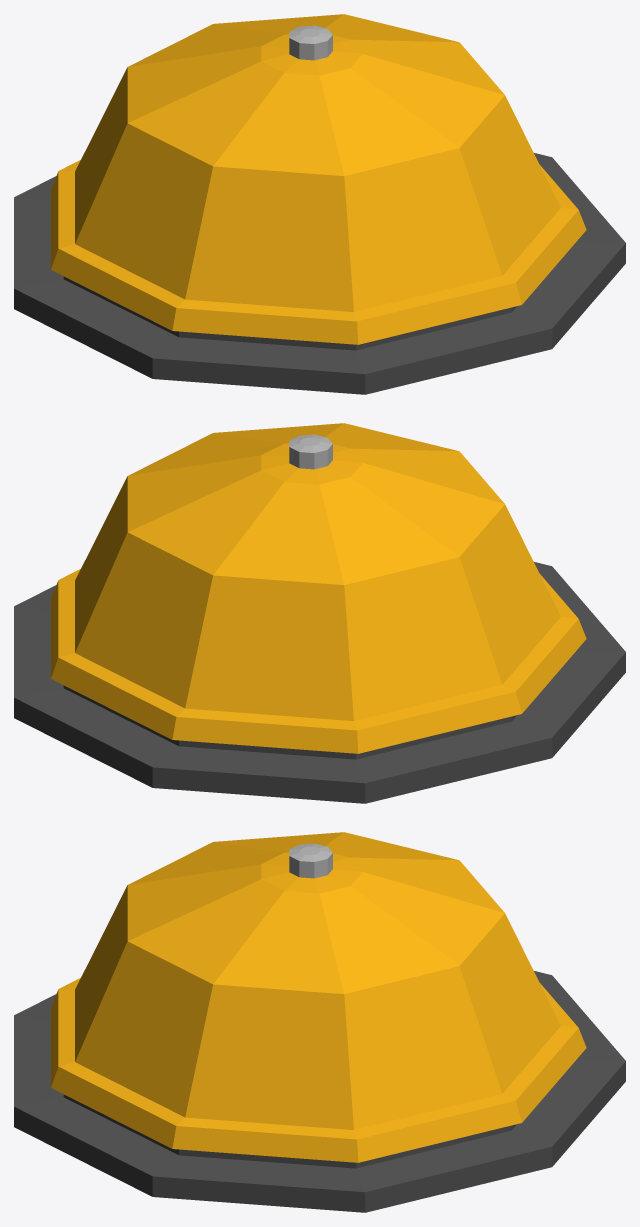
The model's file is DeskBell.fbx.
The picture shows the model from 3 angles, top to bottom: view 1: azimuth 30°, elevation 25°; view 2: azimuth 150°, elevation 25°; view 3: azimuth 270°, elevation 25°; orthographic projection.
Visible parts, largest first — view 1: DeskBell; view 2: DeskBell; view 3: DeskBell.
Part boxes in pixels (x1,y1,x2,y2): DeskBell: (14, 14, 625, 394); DeskBell: (14, 423, 625, 803); DeskBell: (14, 832, 625, 1212).
Bounding box in the file's own units: 248 × 102 × 244.
